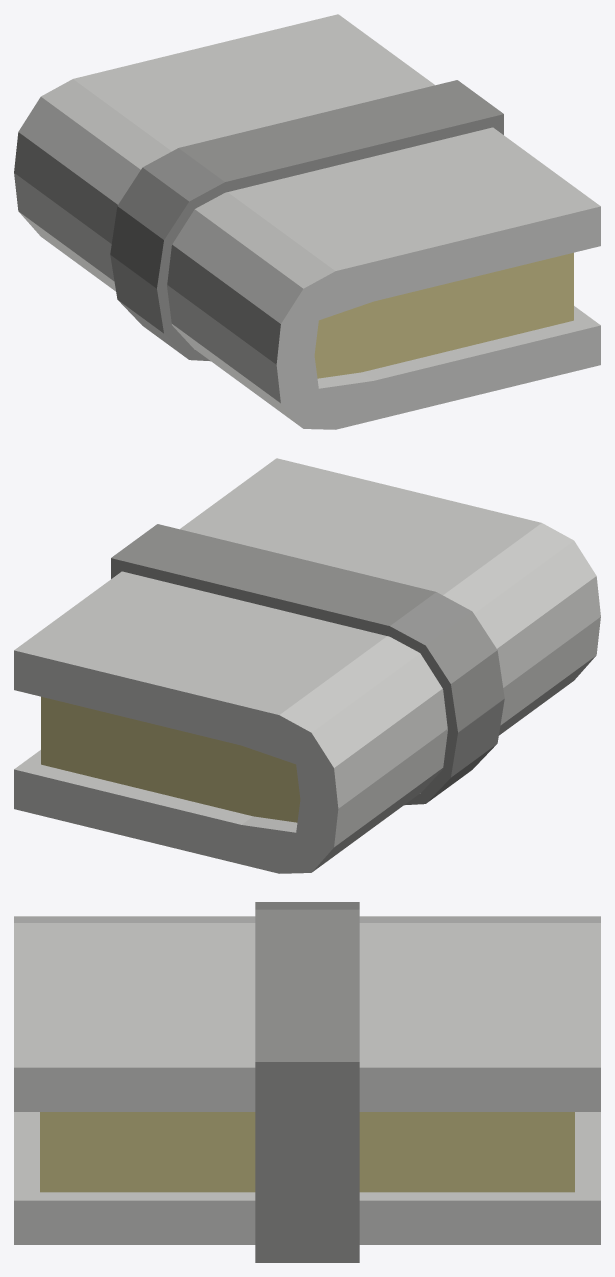
File: Book_5_White.fbx
3 views of the same model, one above another, from view 1: azimuth 30°, elevation 25°; view 2: azimuth 150°, elevation 25°; view 3: azimuth 270°, elevation 25° (orthographic). The views are drawn at different scales.
Parts seen in each view (by area): view 1: Book_5_White_Part_1, Book_5_White_Part_3, Book_5_White_Part_2; view 2: Book_5_White_Part_1, Book_5_White_Part_3, Book_5_White_Part_2; view 3: Book_5_White_Part_1, Book_5_White_Part_3, Book_5_White_Part_2.
Boxes of the visible parts, x1,y1,x2,y2 form: Book_5_White_Part_1: [14, 14, 600, 429]; Book_5_White_Part_3: [110, 80, 503, 361]; Book_5_White_Part_2: [314, 252, 573, 378]; Book_5_White_Part_1: [14, 458, 600, 873]; Book_5_White_Part_3: [111, 524, 504, 805]; Book_5_White_Part_2: [41, 696, 300, 822]; Book_5_White_Part_1: [14, 916, 600, 1244]; Book_5_White_Part_3: [255, 902, 359, 1262]; Book_5_White_Part_2: [40, 1112, 574, 1192].
Bounding box in the file's own units: 34.35 × 17 × 45.
